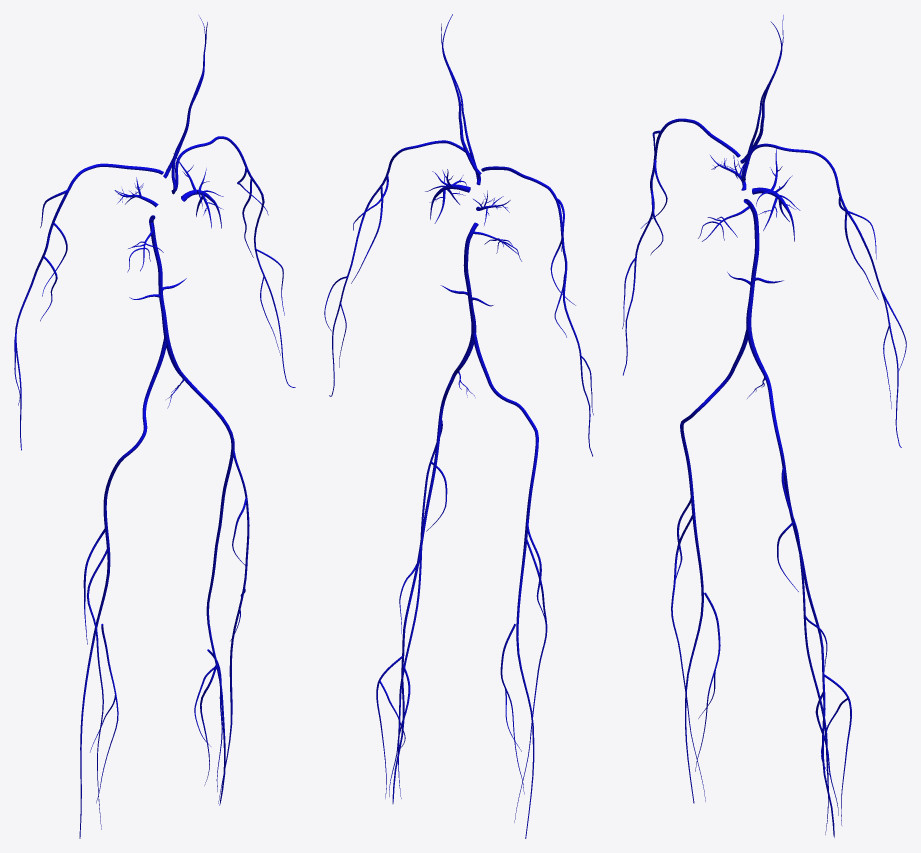
File: Vein.fbx
3 views of the same model, side by side, from view 1: azimuth 30°, elevation 25°; view 2: azimuth 150°, elevation 25°; view 3: azimuth 330°, elevation 25° (orthographic). The views are drawn at different scales.
Visible parts, largest first — view 1: Inferior_vena_Cova, external_iliac_veins, R_Axillary_Vein, L_Axillary_Vein, Great_Saphenous_Vein, Pulmonary_veins, Great_Saphenous_Veins; view 2: Inferior_vena_Cova, external_iliac_veins, R_Axillary_Vein, L_Axillary_Vein, Pulmonary_veins, Great_Saphenous_Vein, Great_Saphenous_Veins; view 3: Inferior_vena_Cova, external_iliac_veins, L_Axillary_Vein, Pulmonary_veins, Great_Saphenous_Vein, R_Axillary_Vein, Great_Saphenous_Veins.
Boxes of the visible parts, x1,y1,x2,y2 form: Inferior_vena_Cova: (149,215,234,805); external_iliac_veins: (79,337,166,838); R_Axillary_Vein: (15,163,163,450); L_Axillary_Vein: (171,136,295,387); Great_Saphenous_Vein: (218,450,249,803); Pulmonary_veins: (114,153,223,228); Great_Saphenous_Veins: (87,549,107,829); Inferior_vena_Cova: (392,222,478,803); external_iliac_veins: (472,333,538,838); R_Axillary_Vein: (481,166,592,456); L_Axillary_Vein: (329,140,479,396); Pulmonary_veins: (425,169,510,225); Great_Saphenous_Vein: (398,420,442,798); Great_Saphenous_Veins: (514,539,547,822); Inferior_vena_Cova: (743,199,834,837); external_iliac_veins: (680,330,747,803); L_Axillary_Vein: (743,143,901,447); Pulmonary_veins: (710,148,800,241); Great_Saphenous_Vein: (781,467,828,834); R_Axillary_Vein: (623,118,740,375); Great_Saphenous_Veins: (671,515,705,801).
Bounding box in the file's own units: 59.13 × 166 × 17.49.
